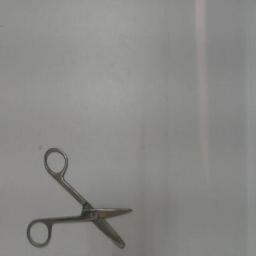Dressing Scissors: (24, 144, 140, 254)
